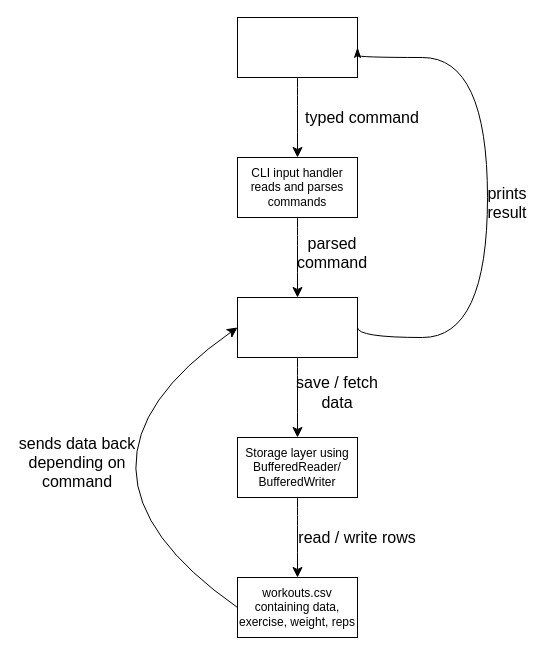
The diagram is 554 pixels wide and 655 high, and some of its shapes have lost their labels. The centre of each missing label's shape, as x and y in pixels:
Command logic (log, lookup, history, suggest): point 297,327
Start: user runs program in terminal: point 297,47
